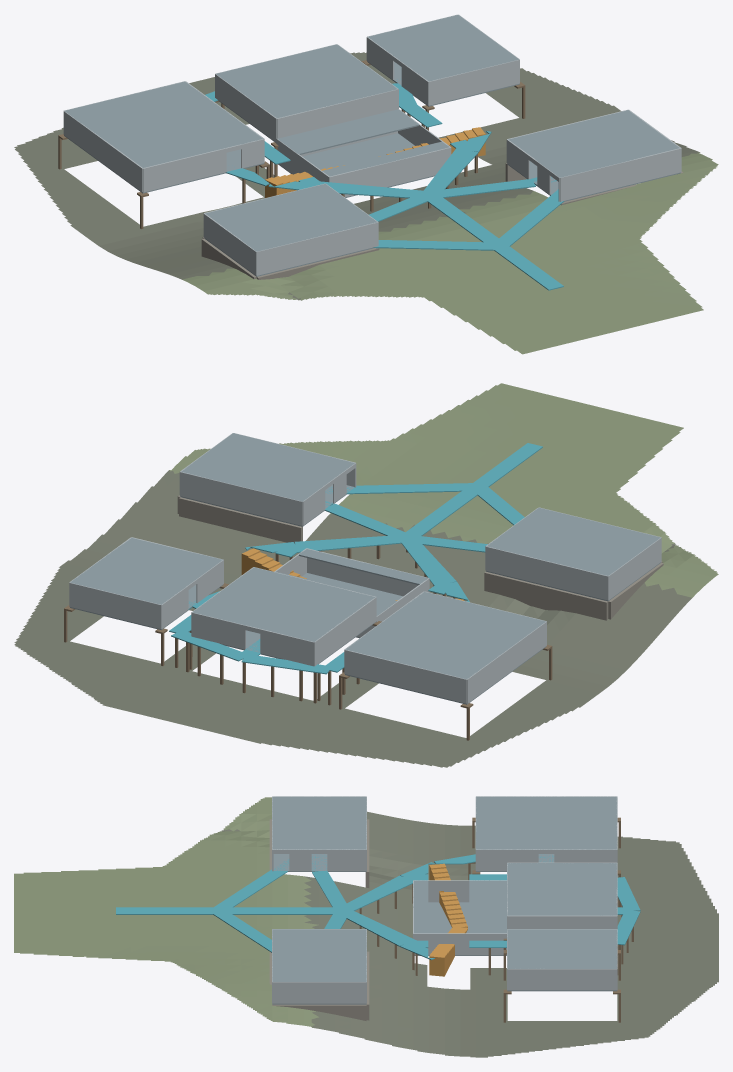
The model's file is supported-terrain.glb.
3 views of the same model, one above another, from view 1: azimuth 30°, elevation 25°; view 2: azimuth 150°, elevation 25°; view 3: azimuth 270°, elevation 25° (orthographic). The views are drawn at different scales.
Visible parts, largest first — view 1: Saved editor macroterrain WLD-06, Ceiling cap boathouse, Ceiling cap fish, Ceiling cap cottage-a, Ceiling cap cottage-b, Ceiling cap net, Wall cottage-a S, Wall cottage-b S, Wall fish S, Wall undercroft S, Wall net S, Wall boathouse S (+21 smaller); view 2: Saved editor macroterrain WLD-06, Ceiling cap boathouse, Ceiling cap fish, Ceiling cap cottage-b, Ceiling cap cottage-a, Ceiling cap net, Wall cottage-a N, Wall boathouse N, Wall cottage-b N, Wall net N, Wall boathouse W, Wall undercroft S (+16 smaller); view 3: Saved editor macroterrain WLD-06, Ceiling cap boathouse, Ceiling cap fish, Ceiling cap cottage-a, Ceiling cap cottage-b, Ceiling cap net, Wall net E, Wall cottage-b E, Wall fish E, Wall undercroft E, Wall boathouse E.001, Ceiling cap undercroft (+15 smaller).
Boxes of the visible parts, <box> form: Saved editor macroterrain WLD-06: <box>14,52,718,354</box>; Ceiling cap boathouse: <box>64,81,263,167</box>; Ceiling cap fish: <box>216,44,397,118</box>; Ceiling cap cottage-a: <box>205,184,376,251</box>; Ceiling cap cottage-b: <box>508,110,679,177</box>; Ceiling cap net: <box>368,15,518,81</box>; Wall cottage-a S: <box>256,222,378,275</box>; Wall cottage-b S: <box>560,148,681,201</box>; Wall fish S: <box>277,89,398,138</box>; Wall undercroft S: <box>329,147,450,197</box>; Wall net S: <box>428,59,519,105</box>; Wall boathouse S: <box>143,148,226,192</box>; Saved editor macroterrain WLD-06: <box>14,383,718,767</box>; Ceiling cap boathouse: <box>345,591,545,678</box>; Ceiling cap fish: <box>192,567,375,641</box>; Ceiling cap cottage-b: <box>181,433,354,501</box>; Ceiling cap cottage-a: <box>486,507,660,575</box>; Ceiling cap net: <box>70,538,222,604</box>; Wall cottage-a N: <box>485,546,608,600</box>; Wall boathouse N: <box>344,649,466,703</box>; Wall cottage-b N: <box>180,471,302,525</box>; Wall net N: <box>69,582,161,628</box>; Wall boathouse W: <box>467,621,546,703</box>; Wall undercroft S: <box>307,548,428,596</box>; Saved editor macroterrain WLD-06: <box>14,797,718,1057</box>; Ceiling cap boathouse: <box>476,796,617,849</box>; Ceiling cap fish: <box>507,863,617,915</box>; Ceiling cap cottage-a: <box>272,796,366,849</box>; Ceiling cap cottage-b: <box>272,929,366,981</box>; Ceiling cap net: <box>507,929,617,968</box>; Wall net E: <box>507,968,617,990</box>; Wall cottage-b E: <box>272,982,366,1003</box>; Wall fish E: <box>507,915,617,928</box>; Wall undercroft E: <box>413,933,506,955</box>; Wall boathouse E.001: <box>476,849,538,871</box>; Ceiling cap undercroft: <box>469,880,506,906</box>.
Bounding box in the file's own units: 70 × 7.86 × 90.
